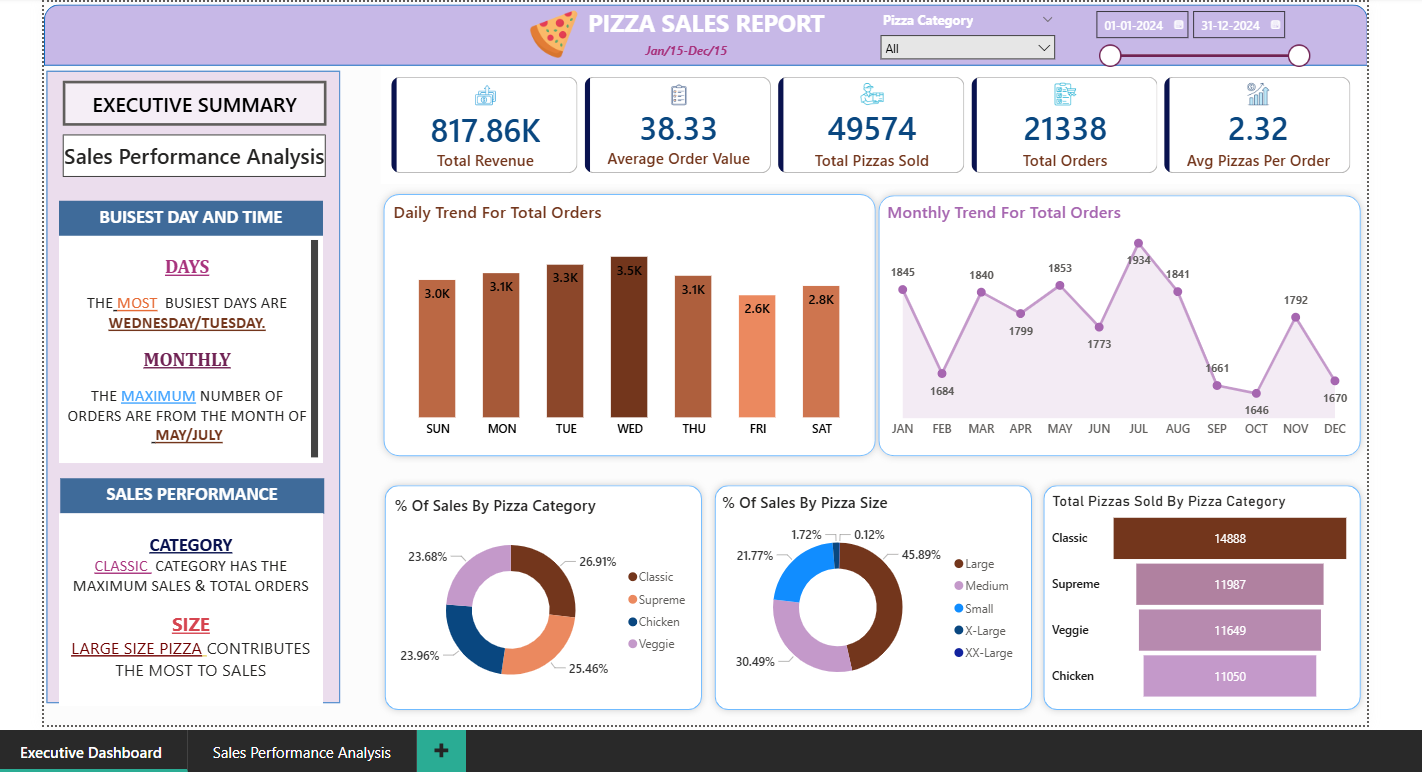

What the dashboard file says about the page in this screenshot:
{"tool":"powerbi","page":{"name":"Executive Dashboard","canvas":[1500,820],"ordinal":0},"visuals":[{"type":"cardVisual","fields":{"Data":["pizza_db pizza_sales.Total Revenue","pizza_db pizza_sales.Average Order Value","pizza_db pizza_sales.Total Pizzas Sold","pizza_db pizza_sales.Total Orders","pizza_db pizza_sales.Avg Pizzas Per Order"]},"box":[376.9,68,1123.5,143.1],"z":0},{"type":"shape","box":[0,2.8,1500.3,69.4],"z":1000},{"type":"shape","box":[2.8,77.9,332.9,716.9],"z":2000},{"type":"textbox","box":[593.8,0,313.8,52.5],"z":3000},{"type":"textbox","box":[667.5,41.2,121.2,28.8],"z":4000},{"type":"image","box":[537.5,8.8,81.2,56.2],"z":5000},{"type":"shape","box":[376.9,209.7,573.8,313.1],"z":6000},{"type":"columnChart","title":"Daily Trend For Total Orders","fields":{"Category":["pizza_db pizza_sales.Order Day"],"Y":["pizza_db pizza_sales.Total Orders"]},"box":[391,225.3,546.9,277.7],"z":7000},{"type":"shape","box":[937.9,211.1,562.4,311.7],"z":8000},{"type":"areaChart","title":"Monthly Trend For Total Orders","fields":{"Category":["pizza_db pizza_sales.Order Month"],"Y":["pizza_db pizza_sales.Total Orders"]},"box":[950.6,225.3,535.5,277.7],"z":9000},{"type":"shape","box":[378.3,539.8,375.4,270.6],"z":10000},{"type":"shape","box":[1124.9,539.8,375.4,270.6],"z":11000},{"type":"shape","box":[752.3,539.8,375.4,270.6],"z":12000},{"type":"donutChart","title":"% Of Sales By Pizza Category","fields":{"Category":["pizza_db pizza_sales.pizza_category"],"Y":["pizza_db pizza_sales.Total Revenue"]},"box":[392.4,558.2,348.5,239.4],"z":13000},{"type":"donutChart","title":"% Of Sales By Pizza Size","fields":{"Y":["pizza_db pizza_sales.Total Revenue"],"Category":["pizza_db pizza_sales.pizza_size"]},"box":[763.6,555.4,348.5,239.4],"z":14000},{"type":"funnel","title":"Total Pizzas Sold By Pizza Category","fields":{"Y":["pizza_db pizza_sales.Total Pizzas Sold"],"Category":["pizza_db pizza_sales.pizza_category"]},"box":[1137.6,555.4,348.5,242.3],"z":15000},{"type":"textbox","box":[17,225.3,298.9,39.7],"z":16000},{"type":"textbox","box":[17,264.9,298.9,257.8],"z":17000},{"type":"textbox","box":[18.4,539.8,298.9,39.7],"z":18000},{"type":"textbox","box":[17,579.4,298.9,218.2],"z":19000},{"type":"slicer","fields":{"Values":["pizza_db pizza_sales.pizza_category"]},"box":[937.9,5.7,218.2,66.6],"z":20000},{"type":"slicer","fields":{"Values":["pizza_db pizza_sales.order_date"]},"box":[1180.1,0,263.5,77.9],"z":21000},{"type":"pageNavigator","box":[21.3,150.2,298.9,48.2],"z":21002},{"type":"actionButton","box":[21.3,89.3,298.9,51],"z":21003}]}

Visuals, with their boxes in screenshot pixels (x1, y1, x2, y2), scaled from the page's 1500x820 canvas onto the 1422x772 screenshot:
cardVisual - pizza_db pizza_sales.Total Revenue x pizza_db pizza_sales.Average Order Value: pyautogui.locateOnScreen(357, 64, 1421, 199)
shape: pyautogui.locateOnScreen(0, 3, 1421, 68)
shape: pyautogui.locateOnScreen(3, 73, 318, 748)
textbox: pyautogui.locateOnScreen(563, 0, 860, 49)
textbox: pyautogui.locateOnScreen(633, 39, 748, 66)
image: pyautogui.locateOnScreen(510, 8, 587, 61)
shape: pyautogui.locateOnScreen(357, 197, 901, 492)
"Daily Trend For Total Orders" columnChart: pyautogui.locateOnScreen(371, 212, 889, 474)
shape: pyautogui.locateOnScreen(889, 199, 1421, 492)
"Monthly Trend For Total Orders" areaChart: pyautogui.locateOnScreen(901, 212, 1409, 474)
shape: pyautogui.locateOnScreen(359, 508, 715, 763)
shape: pyautogui.locateOnScreen(1066, 508, 1421, 763)
shape: pyautogui.locateOnScreen(713, 508, 1069, 763)
"% Of Sales By Pizza Category" donutChart: pyautogui.locateOnScreen(372, 526, 702, 751)
"% Of Sales By Pizza Size" donutChart: pyautogui.locateOnScreen(724, 523, 1054, 748)
"Total Pizzas Sold By Pizza Category" funnel: pyautogui.locateOnScreen(1078, 523, 1409, 751)
textbox: pyautogui.locateOnScreen(16, 212, 299, 249)
textbox: pyautogui.locateOnScreen(16, 249, 299, 492)
textbox: pyautogui.locateOnScreen(17, 508, 301, 546)
textbox: pyautogui.locateOnScreen(16, 545, 299, 751)
slicer - pizza_db pizza_sales.pizza_category: pyautogui.locateOnScreen(889, 5, 1096, 68)
slicer - pizza_db pizza_sales.order_date: pyautogui.locateOnScreen(1119, 0, 1369, 73)
pageNavigator: pyautogui.locateOnScreen(20, 141, 304, 187)
actionButton: pyautogui.locateOnScreen(20, 84, 304, 132)
